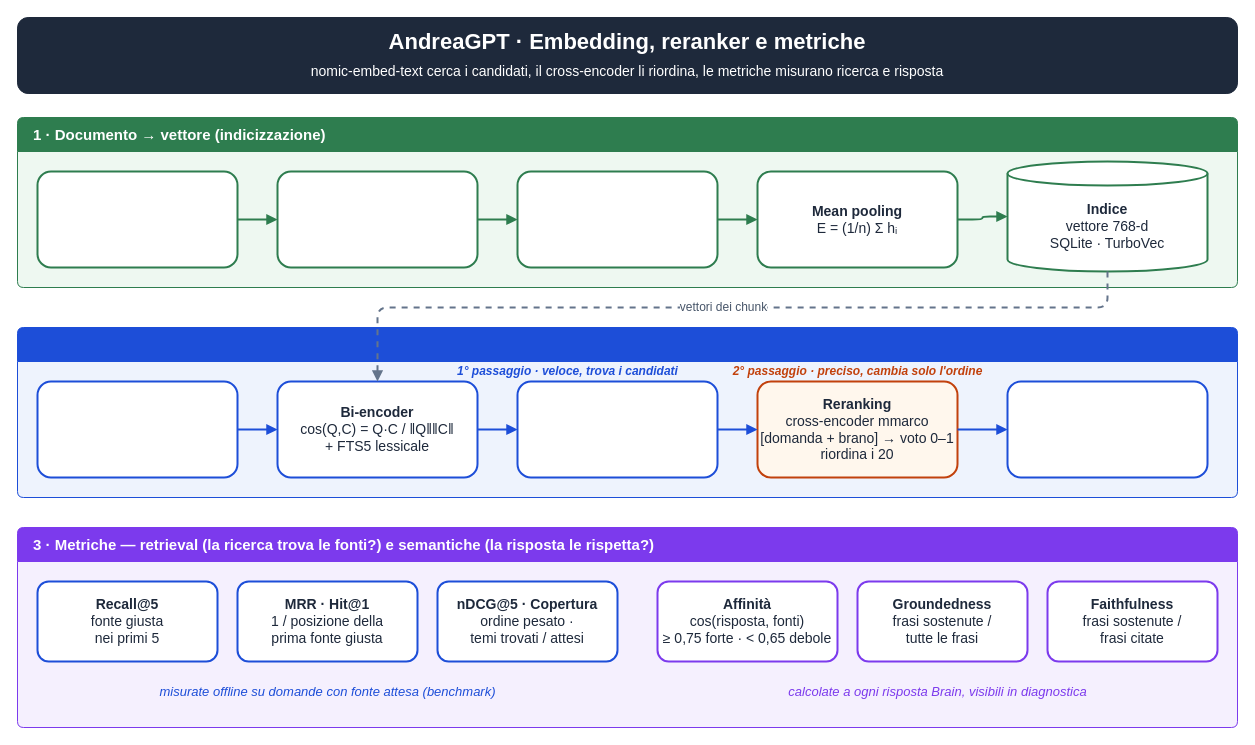
Image size: 1255x745. Some labels were removed from this diagram. Here are the shapes that lost their labels. From the top down, the box of each, then its label:
(36, 170, 238, 268): Chunk ~1200 caratteri overlap 180
(276, 170, 478, 268): Prefisso search_document: percorso + sezione
(516, 170, 718, 268): NomicBERT token t1…tn → h1…hn self-attention
(36, 380, 238, 478): Domanda search_query:
(516, 380, 718, 478): Top-20 candidati veloce, vettori calcolati a priori
(16, 326, 1238, 498): 2 · Domanda → candidati → riordino (ricerca)
(1006, 380, 1208, 478): Estratti nel prompt pochi brani con citazione → LLM
